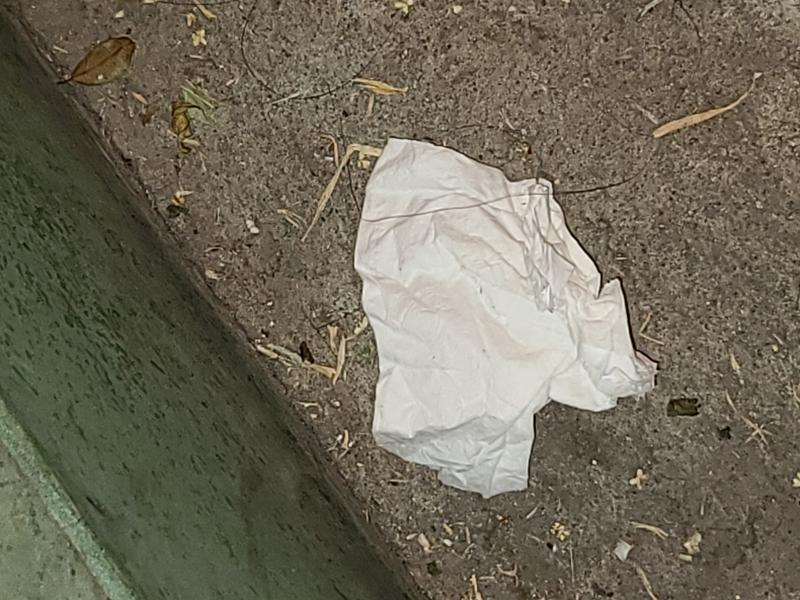papel: (351, 139, 656, 499)
